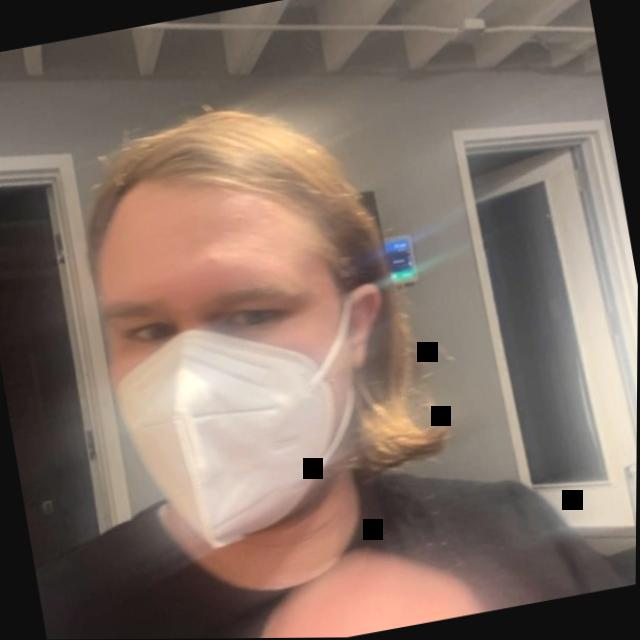Mask: (12, 91, 450, 638)
